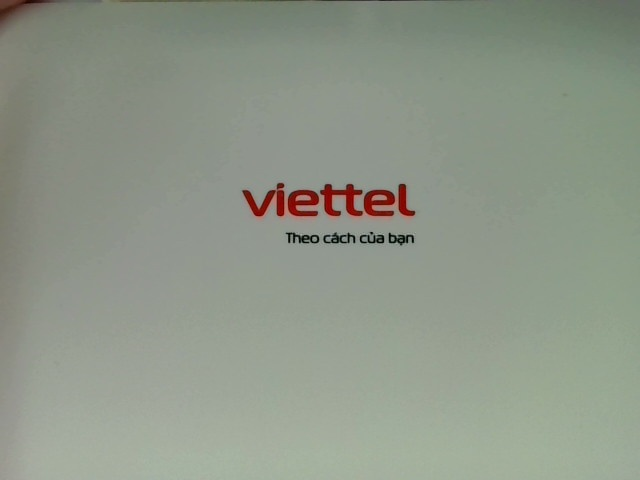AY_Viettel: (240, 176, 433, 248)
